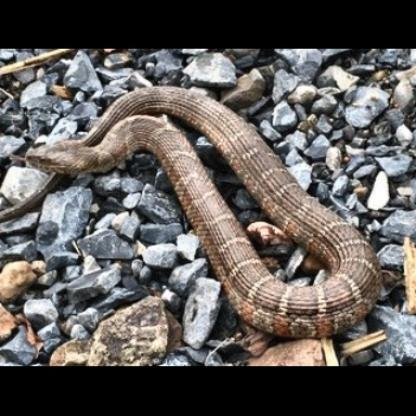Snake: (11, 56, 408, 350)
